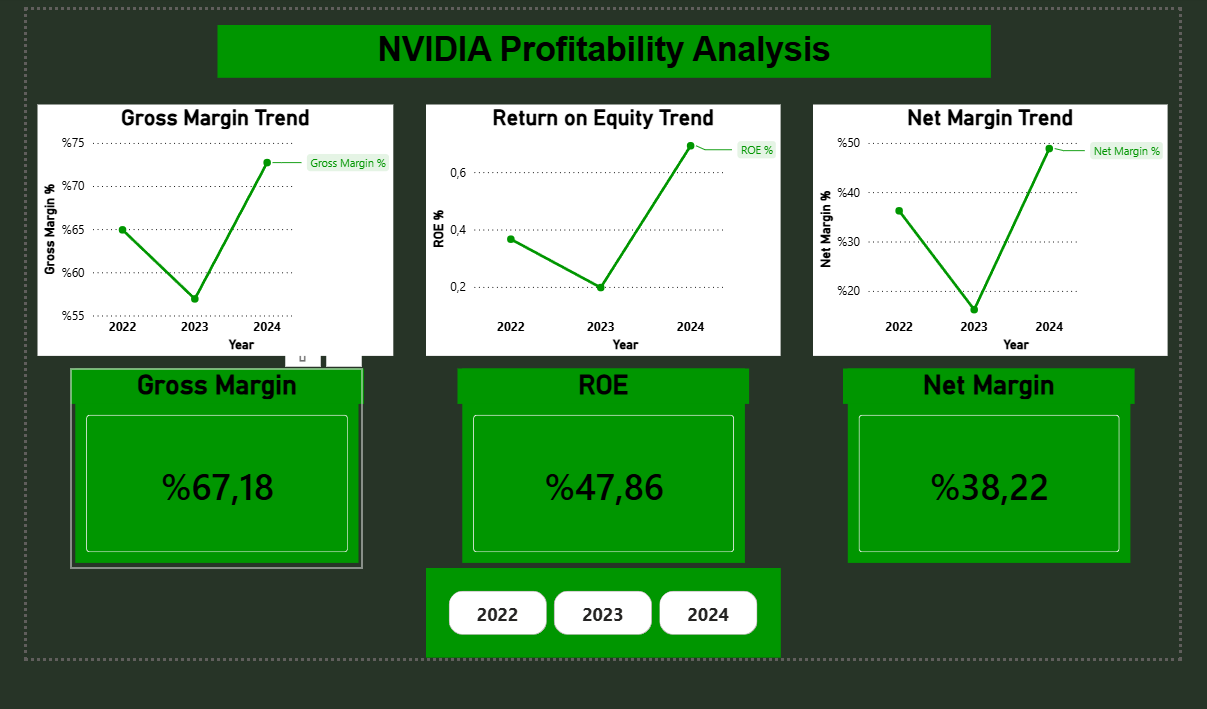

Layout of this report page (visuals, bound fields, positions):
{"tool":"powerbi","page":{"name":"Profitability Analysis","canvas":[1280,720],"ordinal":1},"visuals":[{"type":"textbox","box":[210.9,17.1,859.2,58.9],"z":0},{"type":"cardVisual","title":"Gross Margin","fields":{"Data":["KPI_Table.Gross Margin %"]},"box":[48.1,398.6,325.7,221.8],"z":1000},{"type":"cardVisual","title":"Net Margin","fields":{"Data":["KPI_Table.Net Margin %"]},"box":[907.3,398.6,324.1,221.8],"z":2000},{"type":"cardVisual","title":"ROE","fields":{"Data":["KPI_Table.ROE %"]},"box":[477.7,398.6,324.1,221.8],"z":3000},{"type":"lineChart","title":"Gross Margin Trend","fields":{"Category":["Dim_Year.Year"],"Y":["KPI_Table.Gross Margin %"]},"box":[12.4,105.5,395.5,279.2],"z":4000},{"type":"lineChart","title":"Net Margin Trend","fields":{"Category":["Dim_Year.Year"],"Y":["KPI_Table.Net Margin %"]},"box":[873.2,105.5,393.9,279.2],"z":5000},{"type":"lineChart","title":"Return on  Equity Trend","fields":{"Category":["Dim_Year.Year"],"Y":["KPI_Table.ROE %"]},"box":[443.6,105.5,393.9,279.2],"z":6000},{"type":"advancedSlicerVisual","fields":{"Values":["Dim_Year.Year"]},"box":[443.6,620.4,393.9,99.3],"z":6001}]}

Visuals, with their boxes on the page's 1280x720 design canvas (x1, y1, x2, y2). These are canvas units, not pixel positions in the 1207x709 screenshot, which may show the page scaled, cropped or inside an application window:
textbox: bbox(211, 17, 1070, 76)
"Gross Margin" cardVisual: bbox(48, 399, 374, 620)
"Net Margin" cardVisual: bbox(907, 399, 1231, 620)
"ROE" cardVisual: bbox(478, 399, 802, 620)
"Gross Margin Trend" lineChart: bbox(12, 106, 408, 385)
"Net Margin Trend" lineChart: bbox(873, 106, 1267, 385)
"Return on  Equity Trend" lineChart: bbox(444, 106, 838, 385)
advancedSlicerVisual - Dim_Year.Year: bbox(444, 620, 838, 720)
